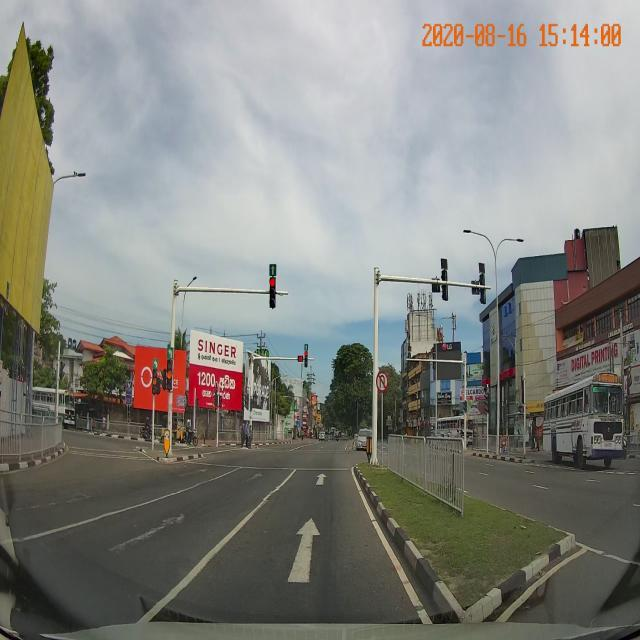forward: (160, 509, 418, 592), (261, 470, 362, 489)
